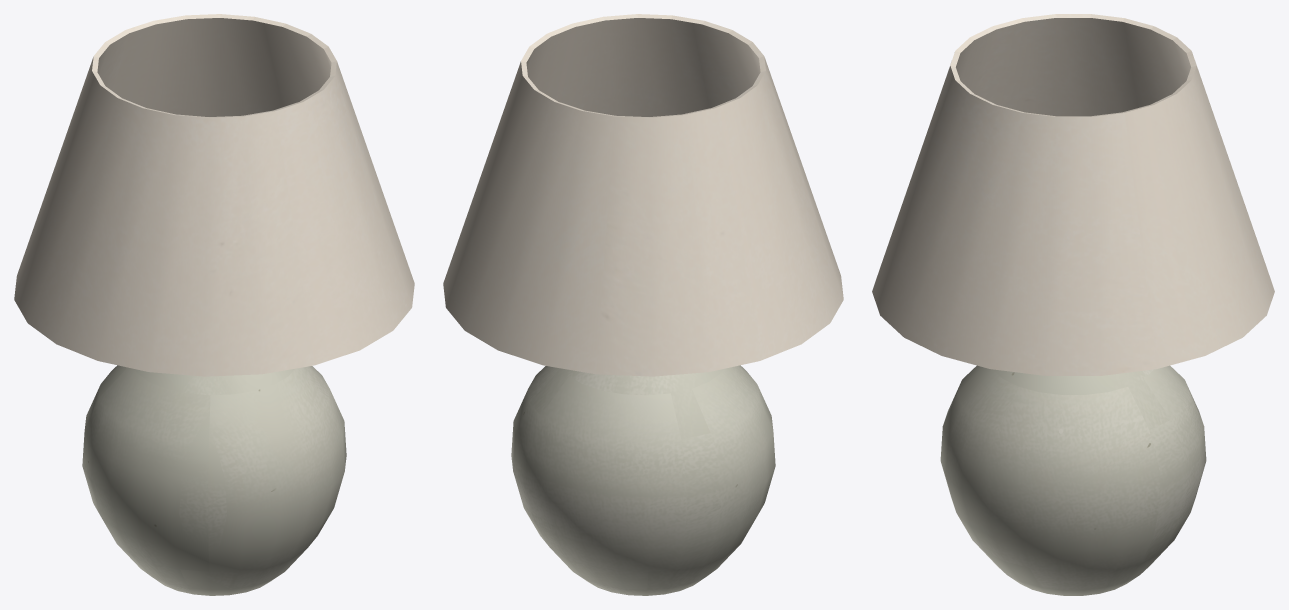
File: lamp.glb
The picture shows the model from 3 angles, left to right: view 1: azimuth 30°, elevation 25°; view 2: azimuth 150°, elevation 25°; view 3: azimuth 270°, elevation 25°; orthographic projection.
Parts seen in each view (by area): view 1: lampshade, ceramics; view 2: lampshade, ceramics; view 3: lampshade, ceramics.
Boxes of the visible parts, x1=… form: lampshade: x1=14, y1=14, x2=414, y2=376; ceramics: x1=82, y1=365, x2=346, y2=595; lampshade: x1=443, y1=14, x2=843, y2=376; ceramics: x1=511, y1=365, x2=775, y2=595; lampshade: x1=872, y1=14, x2=1274, y2=375; ceramics: x1=940, y1=365, x2=1206, y2=595.
Bounding box in the file's own units: 0.5571 × 0.7816 × 0.5628.
5 materials, 2 textured.
